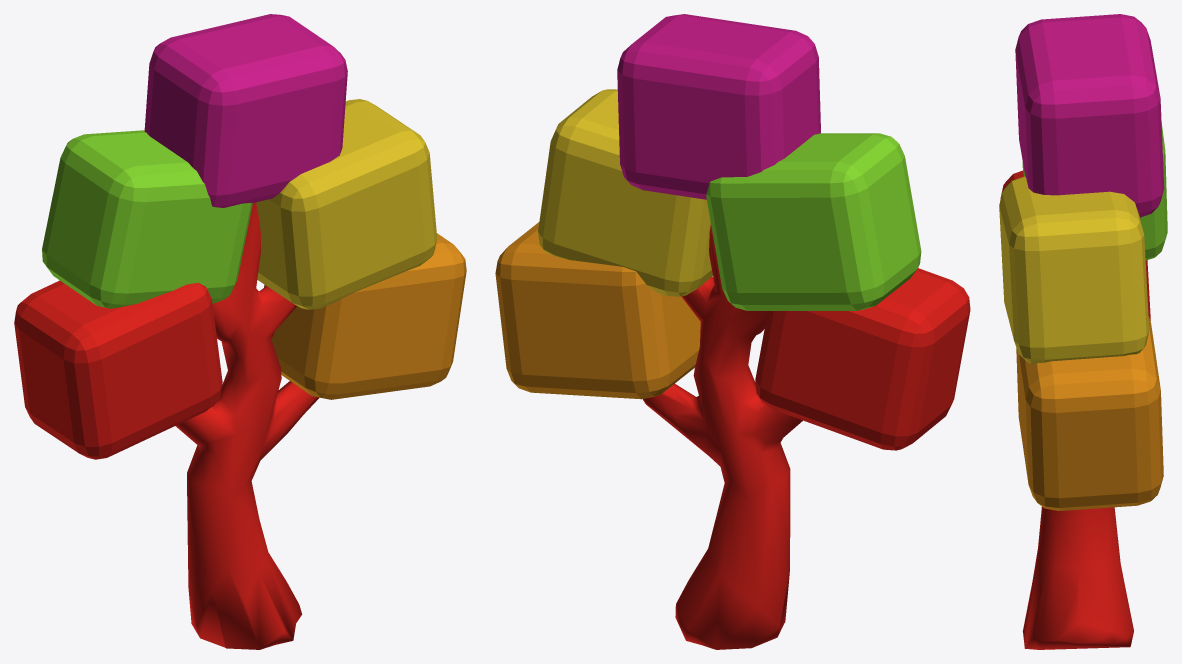
Rendered from gummy_blocks.glb.
3 renders of one model, left to right at view 1: azimuth 30°, elevation 25°; view 2: azimuth 150°, elevation 25°; view 3: azimuth 270°, elevation 25°, orthographic. The views are drawn at different scales.
Parts seen in each view (by area): view 1: Gummy_Candy_Blocks; view 2: Gummy_Candy_Blocks; view 3: Gummy_Candy_Blocks.
Boxes of the visible parts, x1,y1,x2,y2 form: Gummy_Candy_Blocks: [14, 14, 466, 649]; Gummy_Candy_Blocks: [495, 14, 970, 649]; Gummy_Candy_Blocks: [999, 14, 1167, 649].
Bounding box in the file's own units: 3.5 × 4.66 × 1.19.
